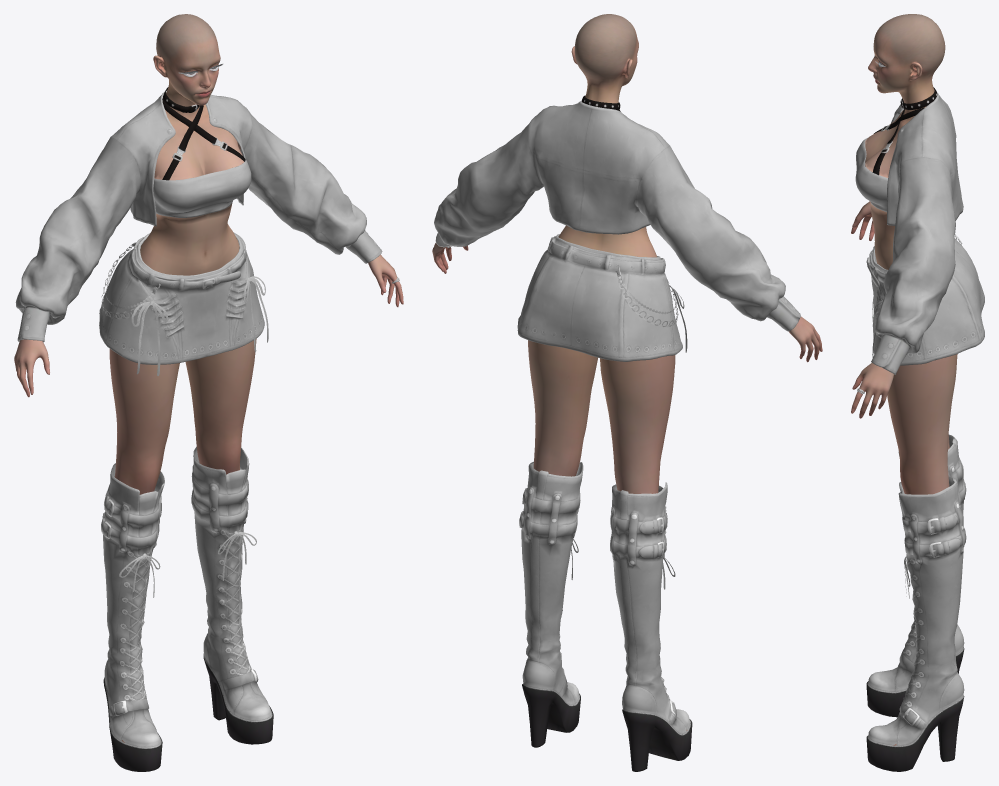
3 views of the same model, side by side, from view 1: azimuth 30°, elevation 25°; view 2: azimuth 150°, elevation 25°; view 3: azimuth 270°, elevation 25° (orthographic).
Parts seen in each view (by area): view 1: GF_Idol_03_Body, GF_Idol_03_Boots, GF_Idol_03_Pants, GF_BaseHead; view 2: GF_Idol_03_Body, GF_Idol_03_Boots, GF_Idol_03_Pants, GF_BaseHead; view 3: GF_Idol_03_Body, GF_Idol_03_Boots, GF_Idol_03_Pants, GF_BaseHead.
Boxes of the visible parts, <box> form: GF_Idol_03_Body: <box>14,87,403,397</box>; GF_Idol_03_Boots: <box>101,447,273,771</box>; GF_Idol_03_Pants: <box>109,338,256,742</box>; GF_BaseHead: <box>153,14,222,116</box>; GF_Idol_03_Body: <box>432,95,822,362</box>; GF_Idol_03_Boots: <box>519,461,692,771</box>; GF_Idol_03_Pants: <box>528,340,687,730</box>; GF_BaseHead: <box>571,14,638,103</box>; GF_Idol_03_Body: <box>851,87,984,418</box>; GF_Idol_03_Boots: <box>866,434,966,771</box>; GF_Idol_03_Pants: <box>887,354,957,745</box>; GF_BaseHead: <box>868,14,945,113</box>.
Size of the model in its own units: 1.03 by 1.88 by 0.3162.
Materials: 6 (5 with a texture image).
